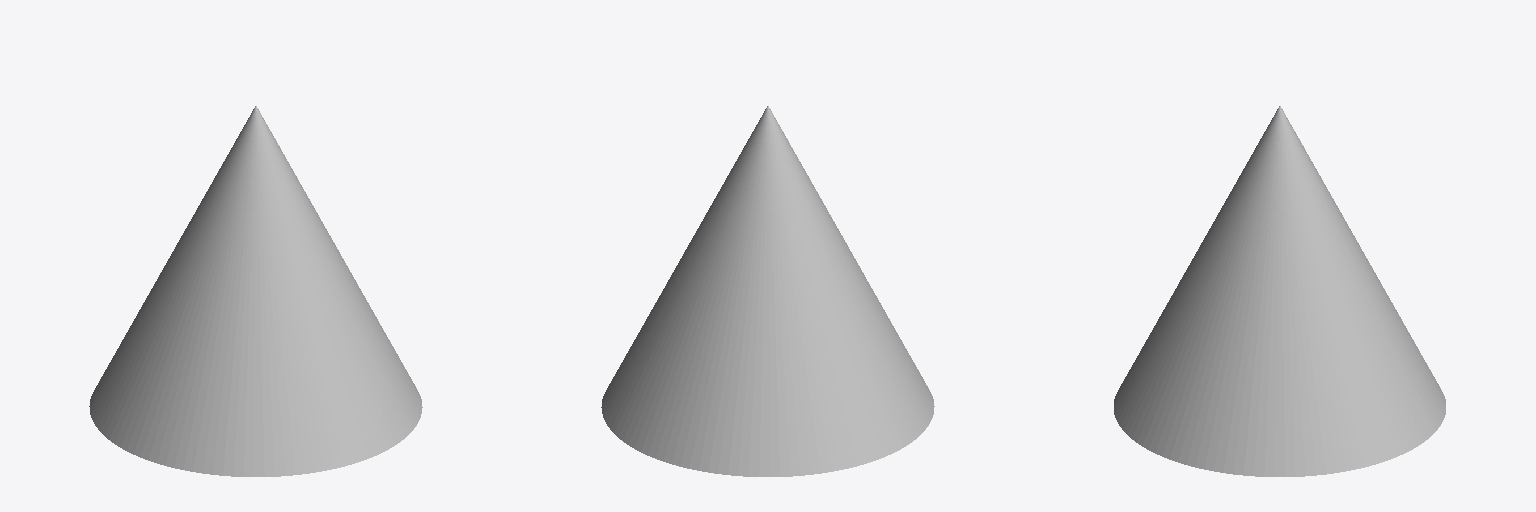
Rendered from circularPyramid.obj.
The picture shows the model from 3 angles: view 1: azimuth 30°, elevation 25°; view 2: azimuth 150°, elevation 25°; view 3: azimuth 270°, elevation 25°; orthographic projection.
Size of the model in its own units: 2 by 2 by 2.